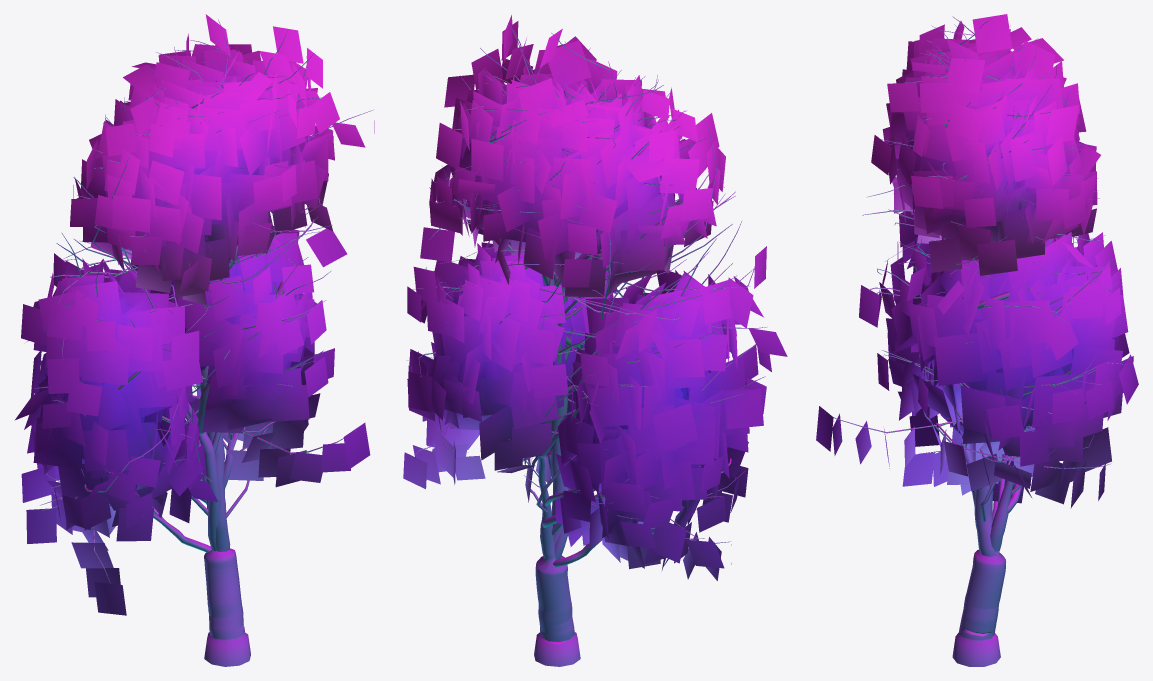
The model's file is tree_birch_s12_a30_x10_wild.fbx.
The picture shows the model from 3 angles, left to right: view 1: azimuth 30°, elevation 25°; view 2: azimuth 150°, elevation 25°; view 3: azimuth 270°, elevation 25°; orthographic projection.
Parts seen in each view (by area): view 1: tree_birch_s12_a30_x10_wild_leaves, tree_birch_s12_a30_x10_wild_branches; view 2: tree_birch_s12_a30_x10_wild_leaves, tree_birch_s12_a30_x10_wild_branches; view 3: tree_birch_s12_a30_x10_wild_leaves, tree_birch_s12_a30_x10_wild_branches.
Boxes of the visible parts, left/top/right/bottom form: tree_birch_s12_a30_x10_wild_leaves: left=14, top=14, right=374, bottom=615; tree_birch_s12_a30_x10_wild_branches: left=34, top=19, right=373, bottom=666; tree_birch_s12_a30_x10_wild_leaves: left=403, top=15, right=787, bottom=580; tree_birch_s12_a30_x10_wild_branches: left=406, top=23, right=766, bottom=666; tree_birch_s12_a30_x10_wild_leaves: left=816, top=14, right=1138, bottom=508; tree_birch_s12_a30_x10_wild_branches: left=825, top=16, right=1128, bottom=666.
Bounding box in the file's own units: 4.34 × 7.73 × 3.53.
